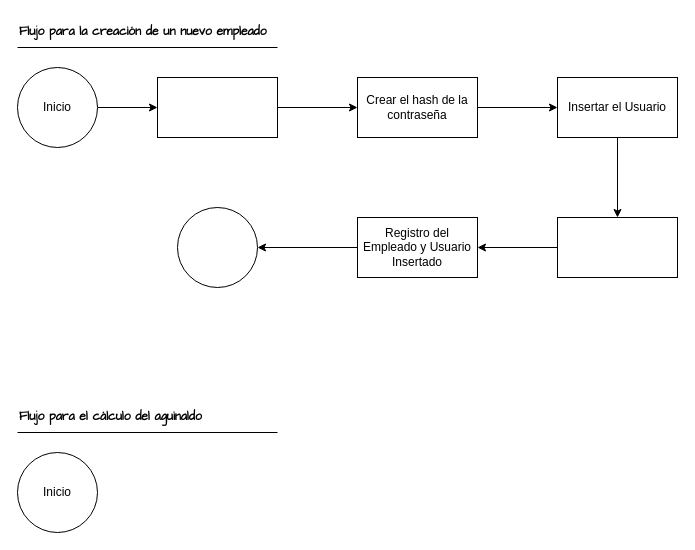
The diagram is 695 pixels wide and 550 high, and some of its shapes have lost their labels. Each missing label, with the centre of its shape:
Asignar Rol al Usuario: point (617, 247)
Fin: point (217, 247)
Realizar el registro del Empleado: point (217, 107)
